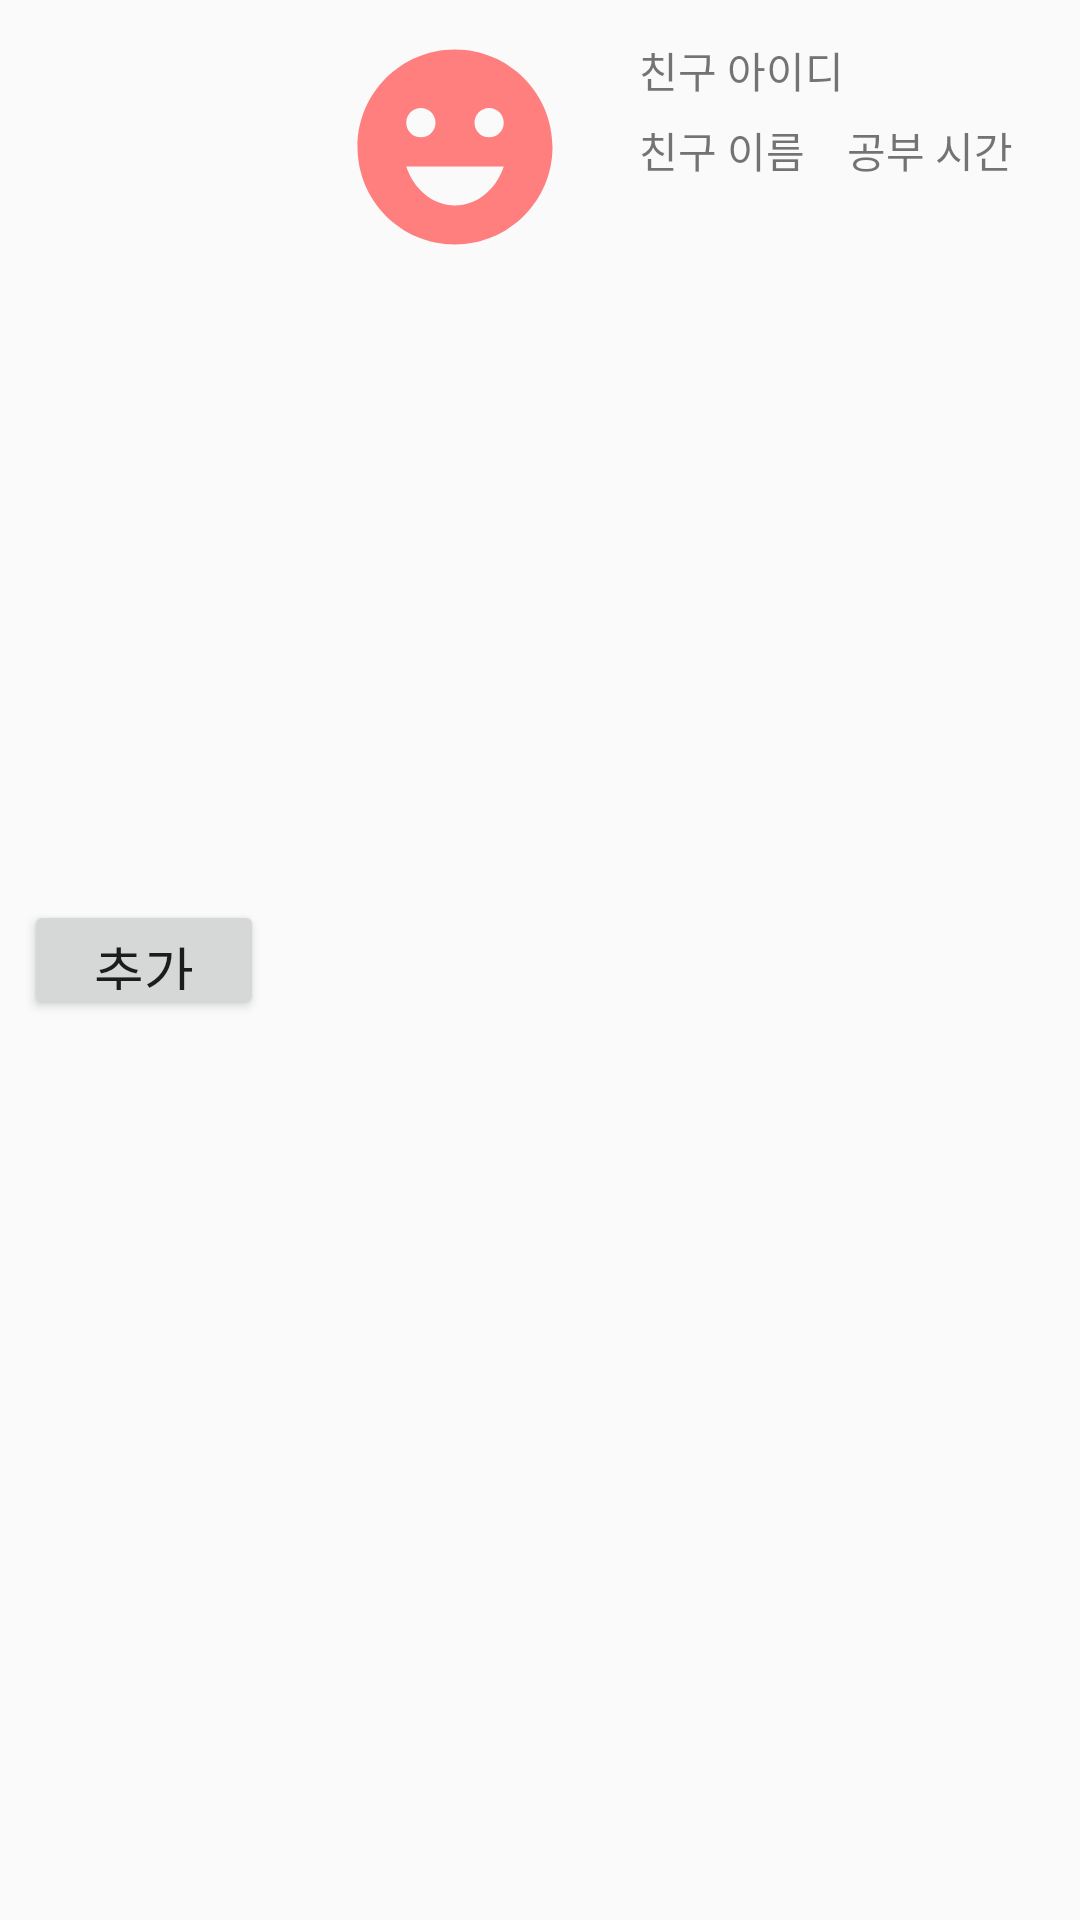

Icon bounding boxes for this 1080 × 1920 phone screenshot, format [x1=x1, y1=y1, x2=x2, y2=y2]:
smile: [x1=357, y1=49, x2=553, y2=245]
